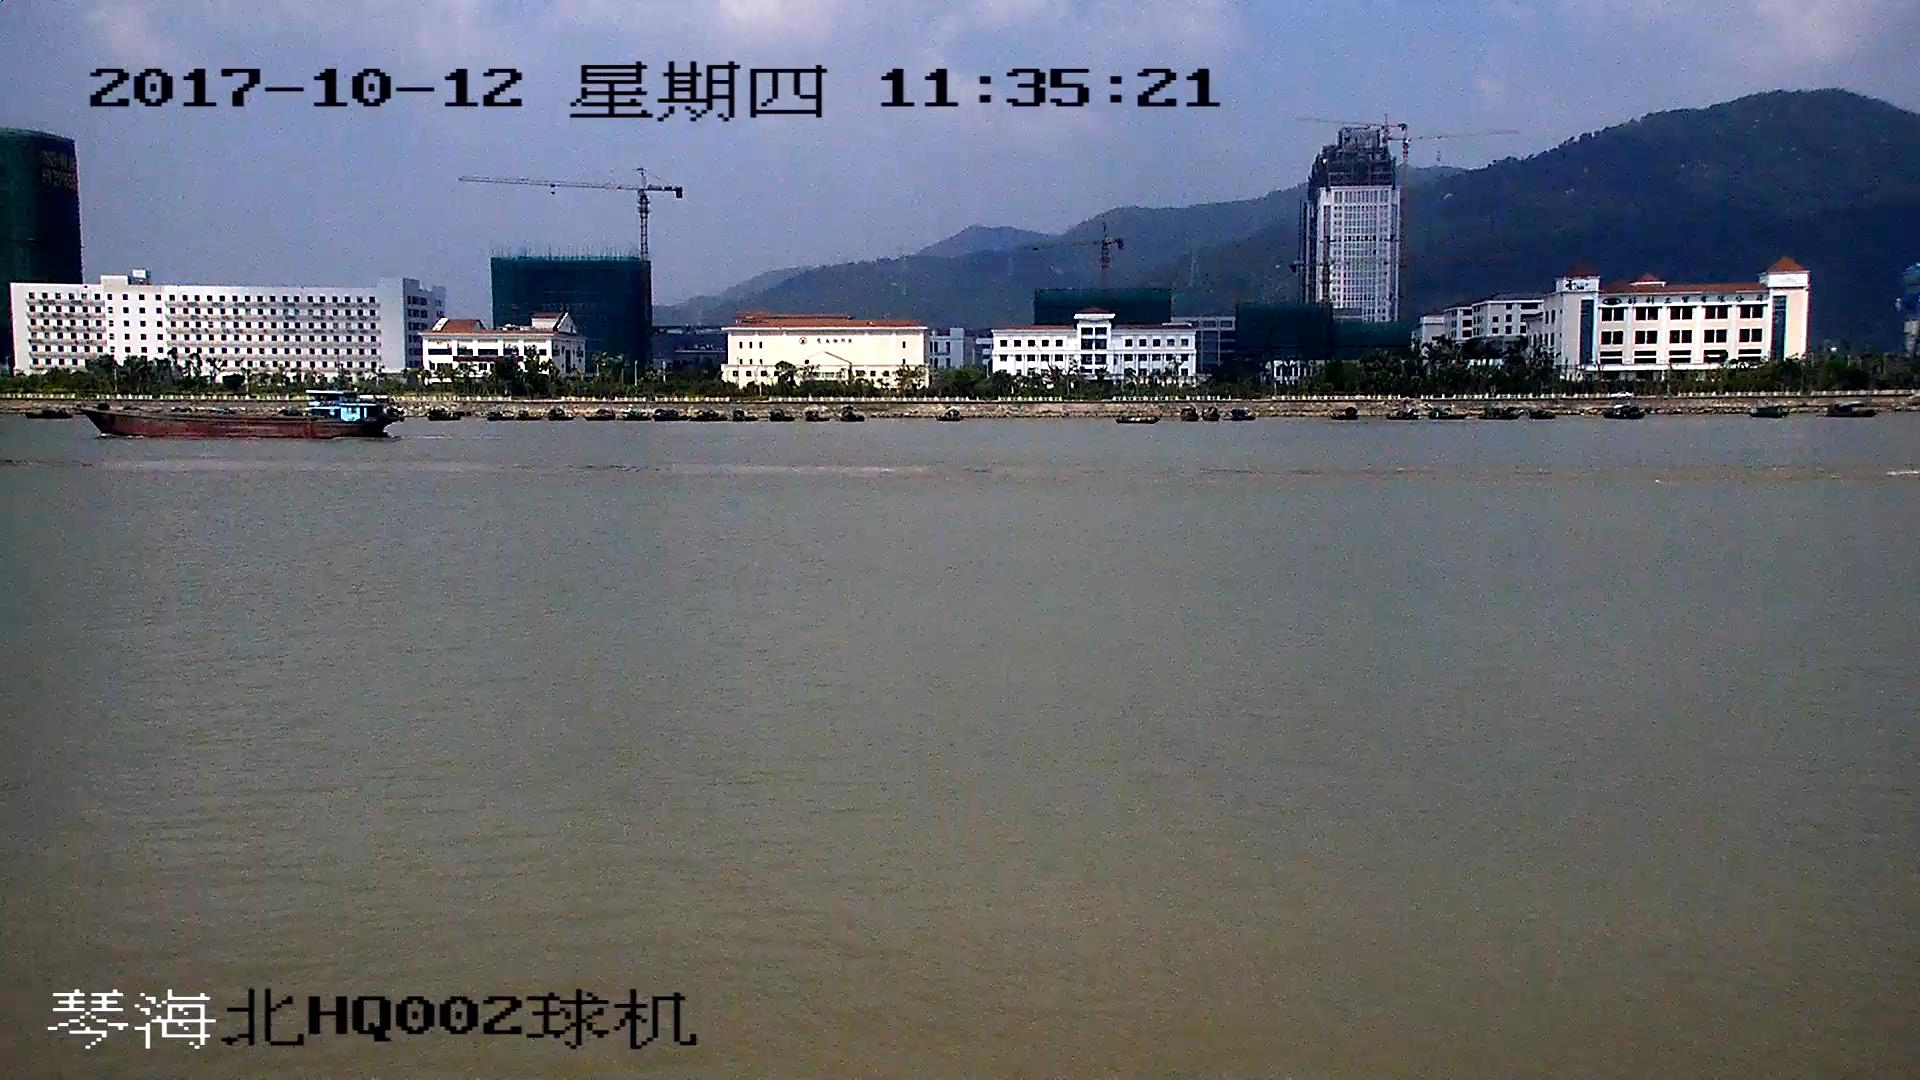bulk cargo carrier: (89, 388, 389, 437)
